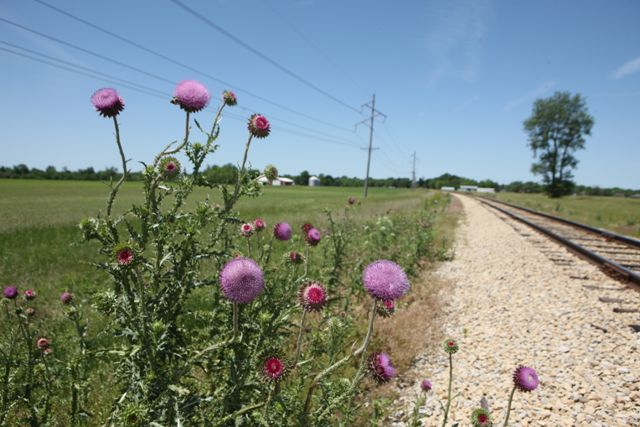thistle: (362, 257, 414, 307), (218, 256, 264, 306), (85, 86, 129, 123), (168, 79, 208, 119), (295, 279, 329, 317), (509, 362, 543, 399), (256, 349, 292, 383), (367, 351, 394, 385), (246, 112, 275, 141), (271, 218, 296, 244)
